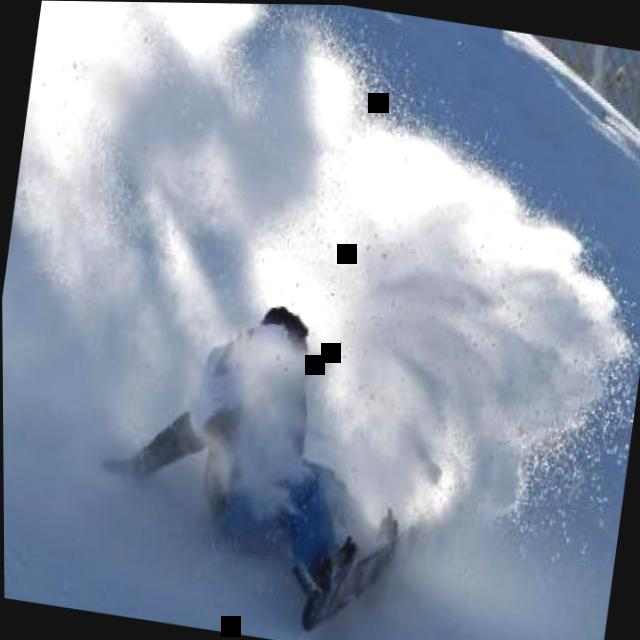Fall-Detected: (77, 251, 432, 633)
